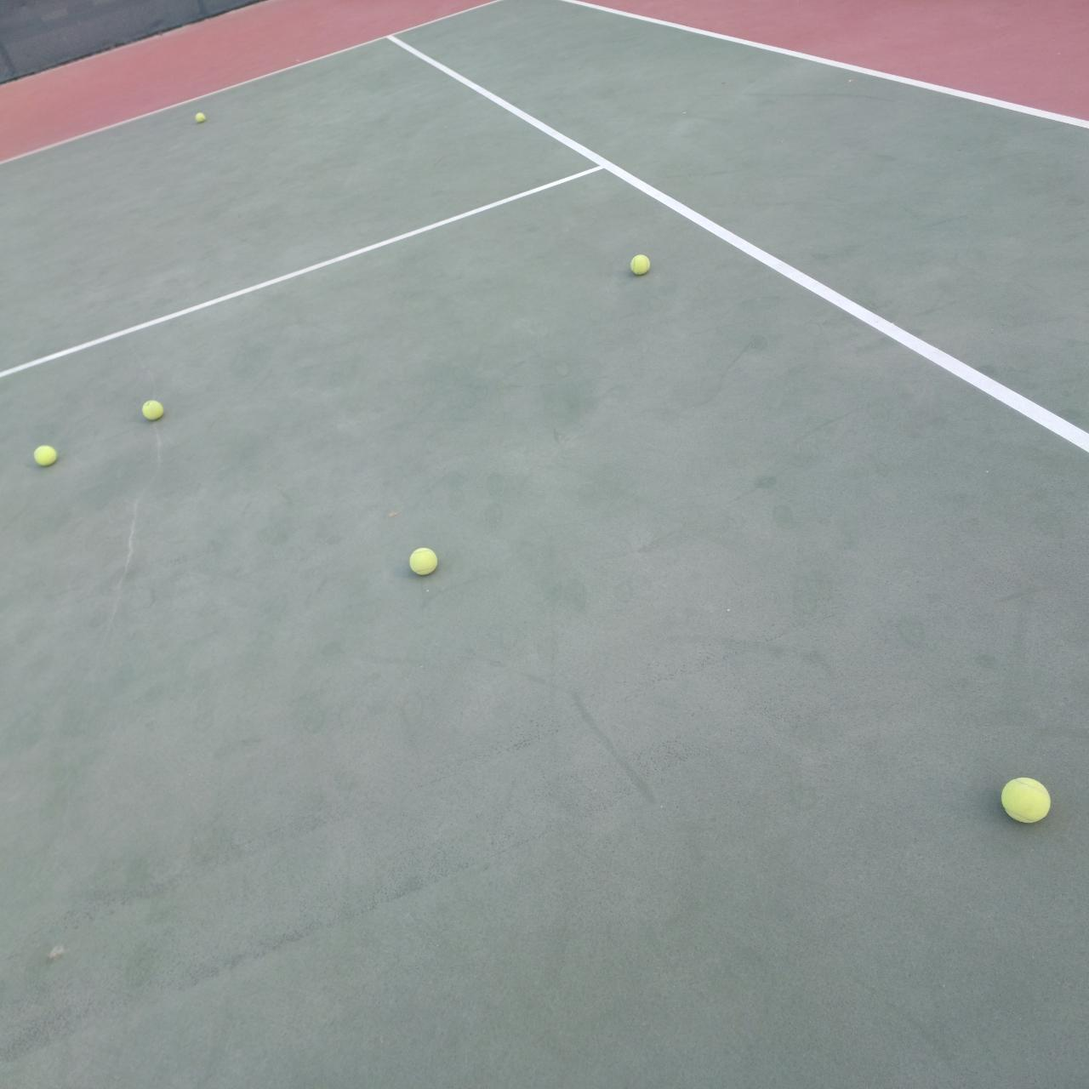tennis-ball: (999, 774, 1052, 824), (407, 544, 438, 576), (32, 442, 58, 467), (140, 397, 164, 421), (629, 252, 650, 276), (193, 109, 206, 123)
